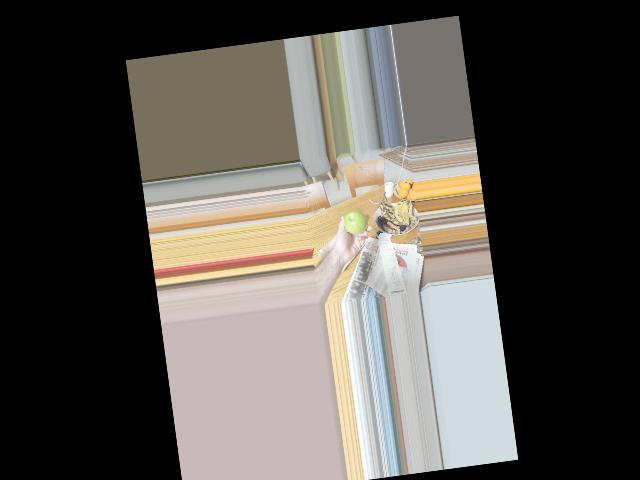apple: (341, 209, 368, 235)
